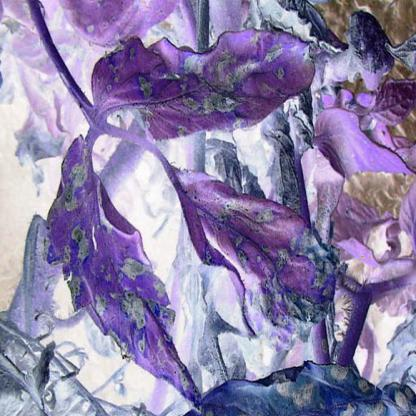Tomato leaf late blight: (42, 130, 205, 411), (173, 166, 332, 336), (88, 32, 322, 140)
